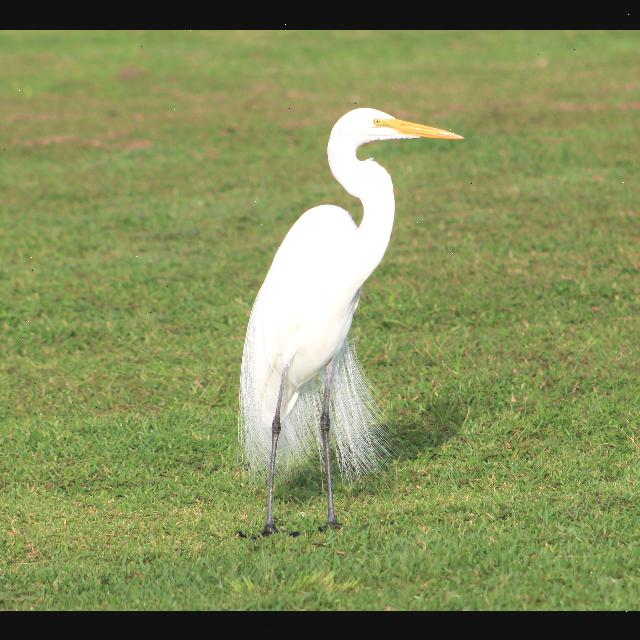egret: (219, 103, 466, 524)
